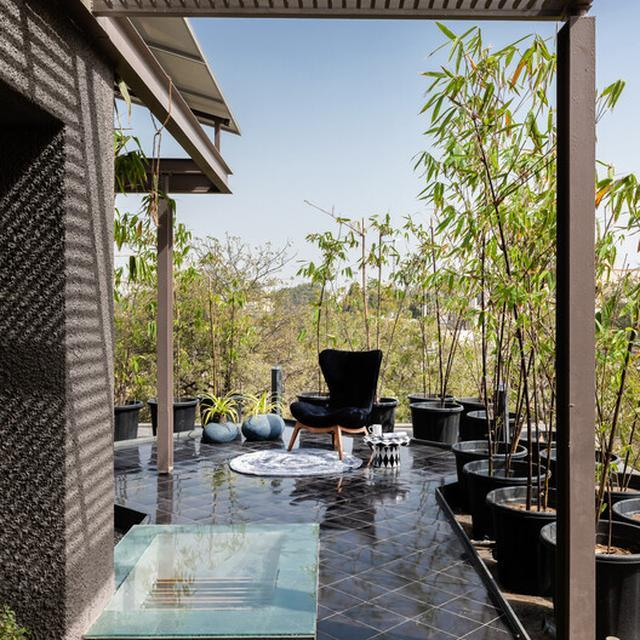building: (0, 1, 241, 640)
